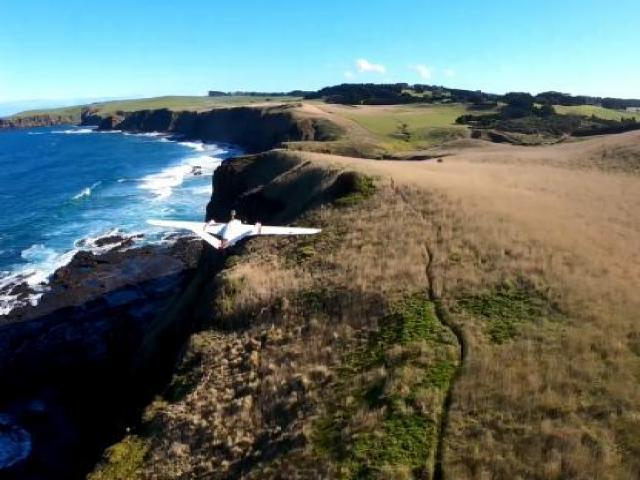uav: (146, 216, 322, 252)
